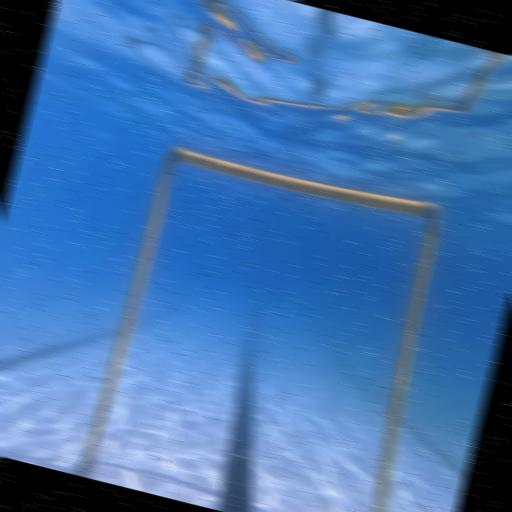gate: (72, 133, 464, 512)
